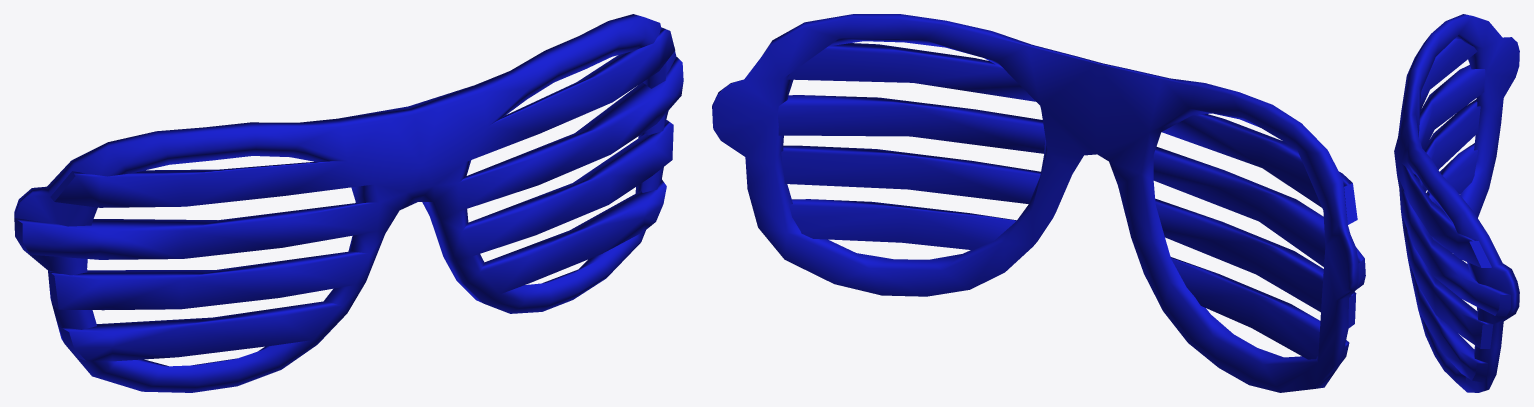
The model's file is AccessoryGlassBlind1.glb.
3 renders of one model, left to right at view 1: azimuth 30°, elevation 25°; view 2: azimuth 150°, elevation 25°; view 3: azimuth 270°, elevation 25°, orthographic. The views are drawn at different scales.
Parts seen in each view (by area): view 1: Accessory__mAccessory; view 2: Accessory__mAccessory; view 3: Accessory__mAccessory.
Part boxes in pixels (x1=…): Accessory__mAccessory: x1=14, y1=14, x2=683, y2=392; Accessory__mAccessory: x1=712, y1=14, x2=1365, y2=392; Accessory__mAccessory: x1=1394, y1=14, x2=1519, y2=392.
Size of the model in its own units: 6.64 by 2.6 by 1.44.
1 material, 1 textured.
